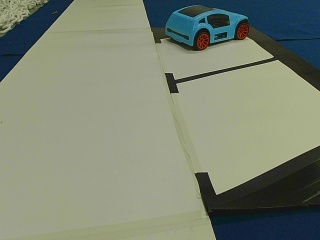car: (164, 7, 248, 50)
